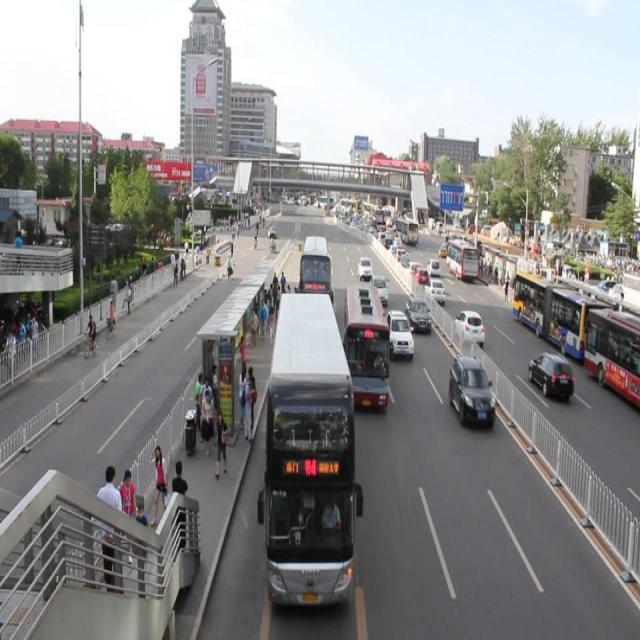car: (444, 353, 502, 438), (382, 306, 415, 361), (400, 294, 435, 334), (365, 272, 389, 304), (354, 253, 372, 285)
van: (256, 293, 367, 610), (338, 282, 395, 413), (294, 235, 335, 314)
